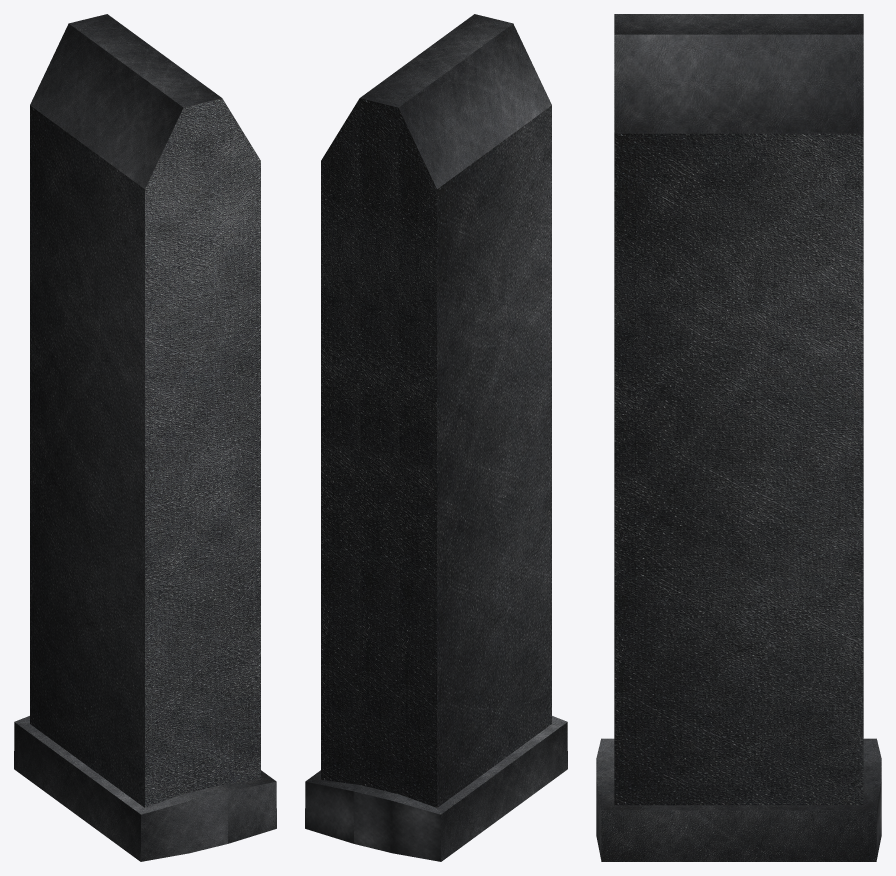
The model's file is mag.glb.
3 views of the same model, side by side, from view 1: azimuth 30°, elevation 25°; view 2: azimuth 150°, elevation 25°; view 3: azimuth 270°, elevation 25° (orthographic). The views are drawn at different scales.
Parts seen in each view (by area): view 1: mag; view 2: mag; view 3: mag.
Boxes of the visible parts, <box> form: mag: <box>14,14,276,861</box>; mag: <box>305,14,567,861</box>; mag: <box>596,14,881,861</box>.
Size of the model in its own units: 2.33 by 12.07 by 3.89.
1 material, 1 textured.
